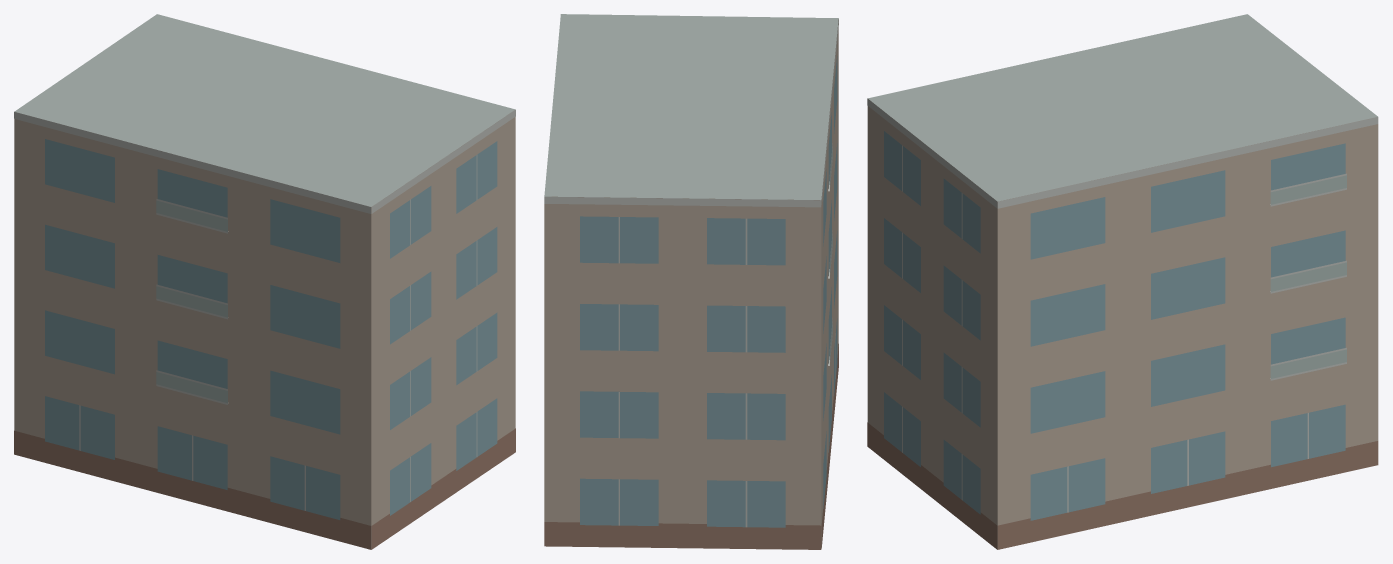
File: survey-upis-32882504.glb
The picture shows the model from 3 angles, left to right: view 1: azimuth 30°, elevation 25°; view 2: azimuth 150°, elevation 25°; view 3: azimuth 270°, elevation 25°; orthographic projection. The views are drawn at different scales.
Parts seen in each view (by area): view 1: survey-upis-32882504.tmp; view 2: survey-upis-32882504.tmp; view 3: survey-upis-32882504.tmp.
Part boxes in pixels (x1=…): survey-upis-32882504.tmp: x1=14, y1=14, x2=515, y2=549; survey-upis-32882504.tmp: x1=544, y1=14, x2=838, y2=549; survey-upis-32882504.tmp: x1=867, y1=14, x2=1378, y2=549.
Size of the model in its own units: 13.64 by 11.8 by 15.69.
